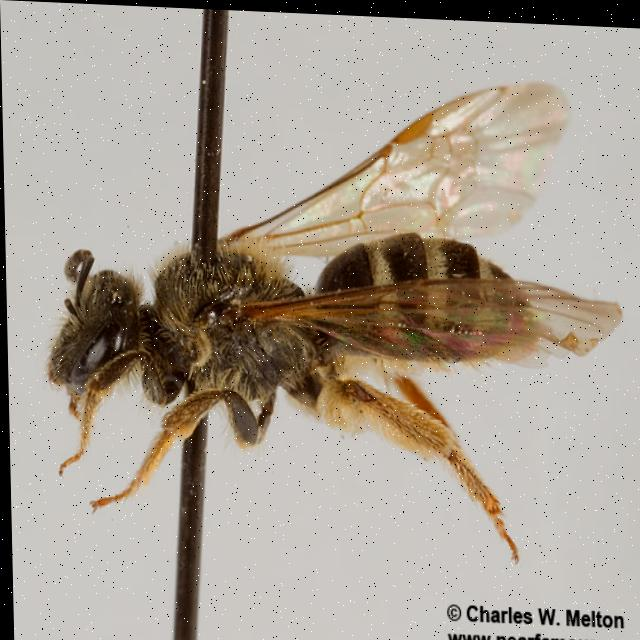Lasioglossum: (33, 49, 634, 589)
